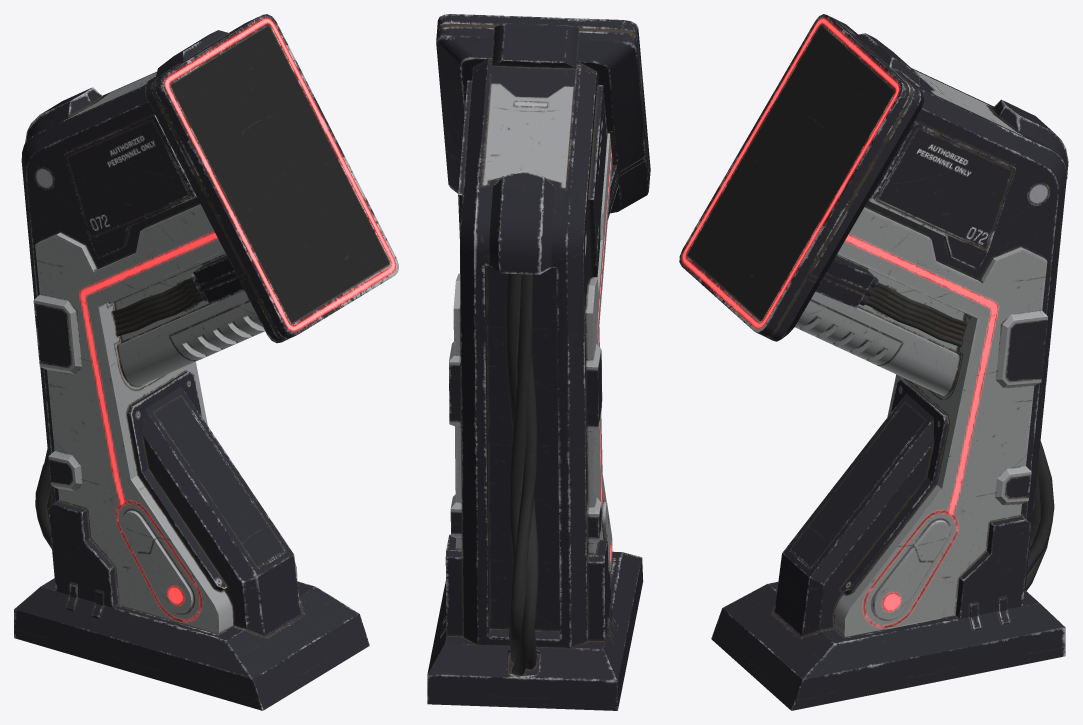
The picture shows the model from 3 angles, left to right: view 1: azimuth 30°, elevation 25°; view 2: azimuth 150°, elevation 25°; view 3: azimuth 270°, elevation 25°; orthographic projection.
Parts seen in each view (by area): view 1: LP1.008_4; view 2: LP1.008_4; view 3: LP1.008_4.
Boxes of the visible parts, x1,y1,x2,y2 form: LP1.008_4: [14, 14, 398, 710]; LP1.008_4: [427, 14, 650, 710]; LP1.008_4: [679, 14, 1068, 710].
Size of the model in its own units: 0.6458 by 1.36 by 0.7938.
1 material, 1 textured.
